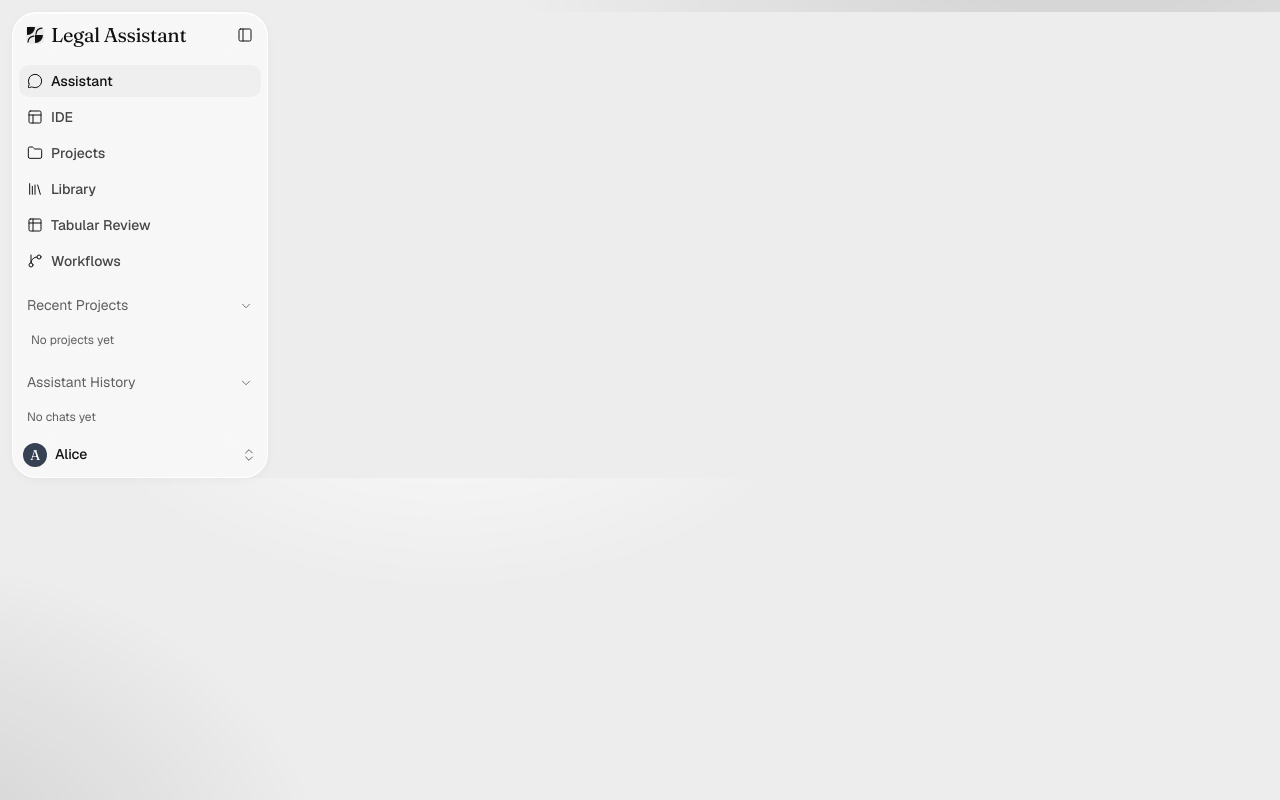
AppSidebar account dropdown › shows a warning popup when sign out fails
Step 1. Click the button "A Alice" → (140, 455), box [17, 437, 263, 473]
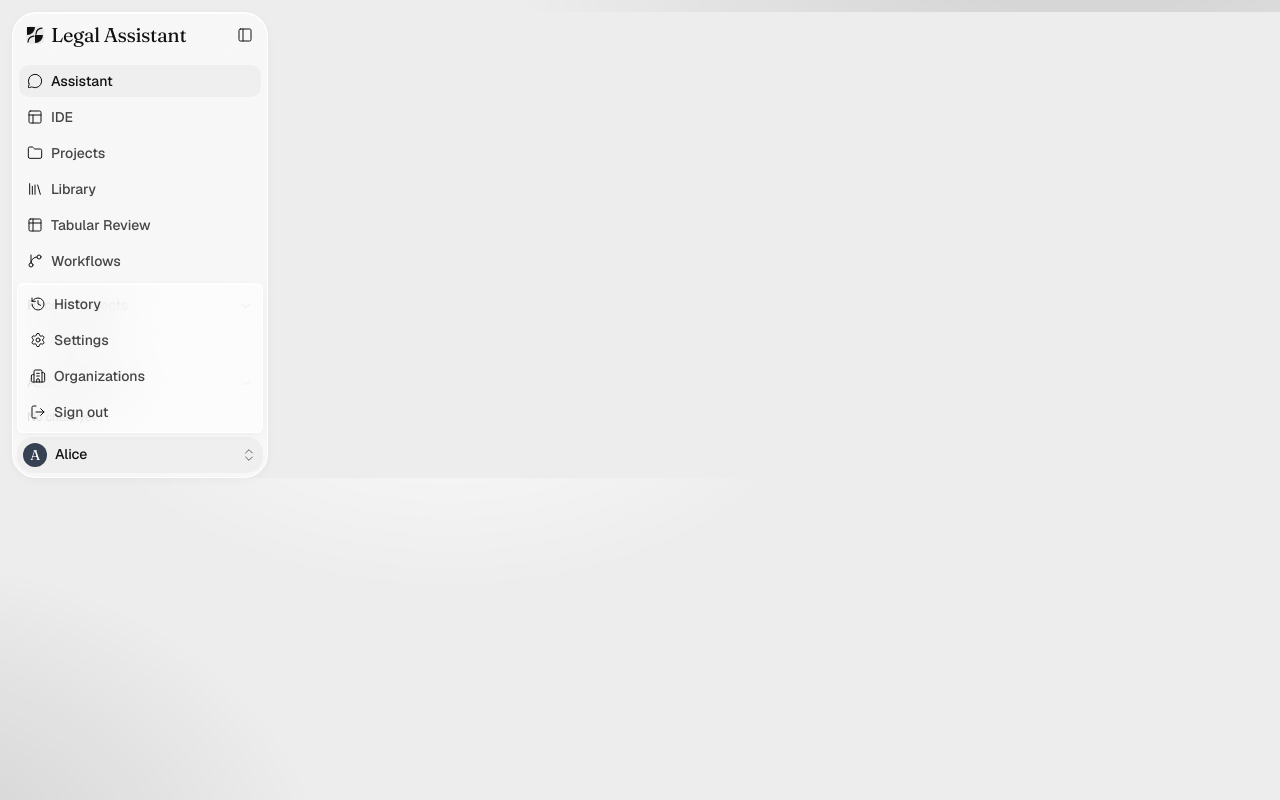
Step 2. Click the menu item "Sign out" → (69, 412), box [30, 403, 109, 421]
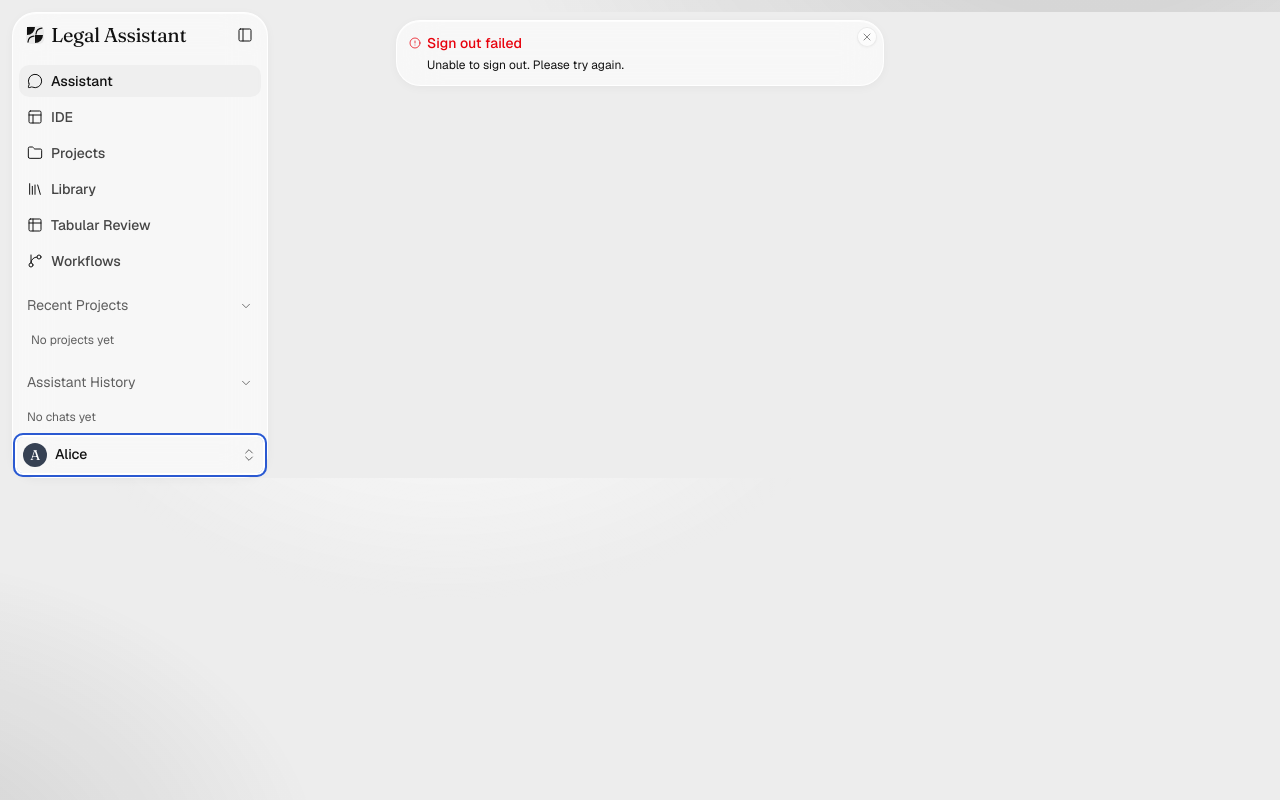
Expected: the text "Sign out failed" is shown, [409, 34, 522, 52]
Expected: the text "Unable to sign out. Please try again." is shown, [427, 57, 624, 73]
